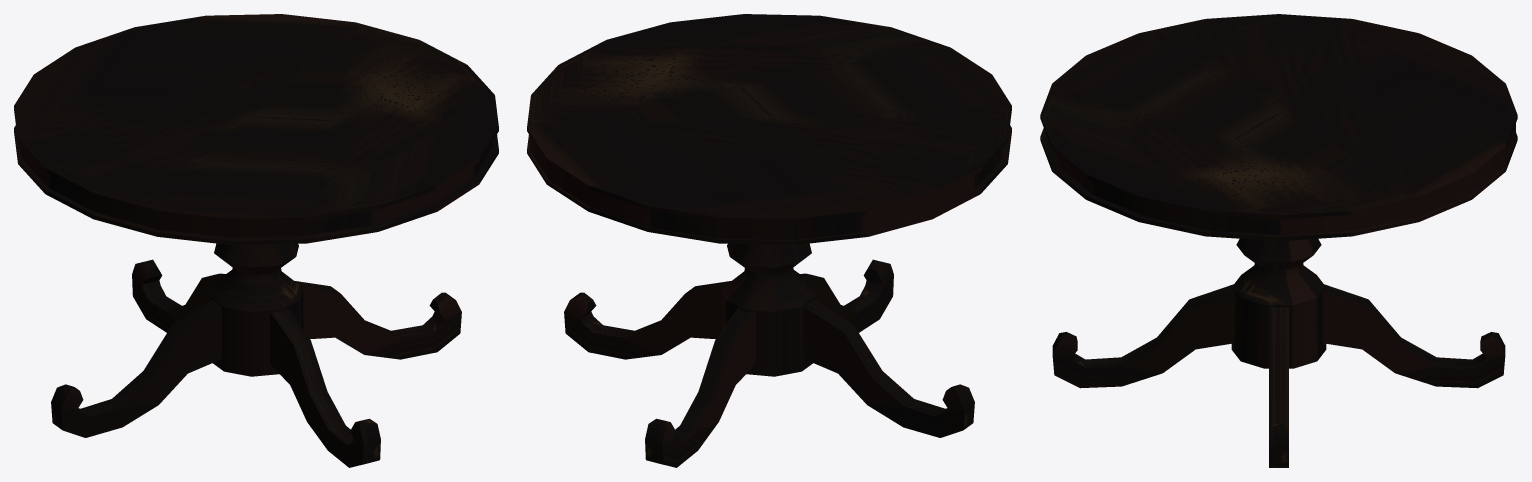
The model's file is w9_cand_table_round_quat.glb.
3 renders of one model, left to right at view 1: azimuth 30°, elevation 25°; view 2: azimuth 150°, elevation 25°; view 3: azimuth 270°, elevation 25°, orthographic. The views are drawn at different scales.
Parts seen in each view (by area): view 1: Table_RoundSmall2; view 2: Table_RoundSmall2; view 3: Table_RoundSmall2.
Boxes of the visible parts, x1=… form: Table_RoundSmall2: x1=14, y1=14, x2=498, y2=467; Table_RoundSmall2: x1=527, y1=14, x2=1011, y2=467; Table_RoundSmall2: x1=1040, y1=14, x2=1517, y2=467.
Size of the model in its own units: 1.94 by 1.21 by 1.94.
1 material, 1 textured.
